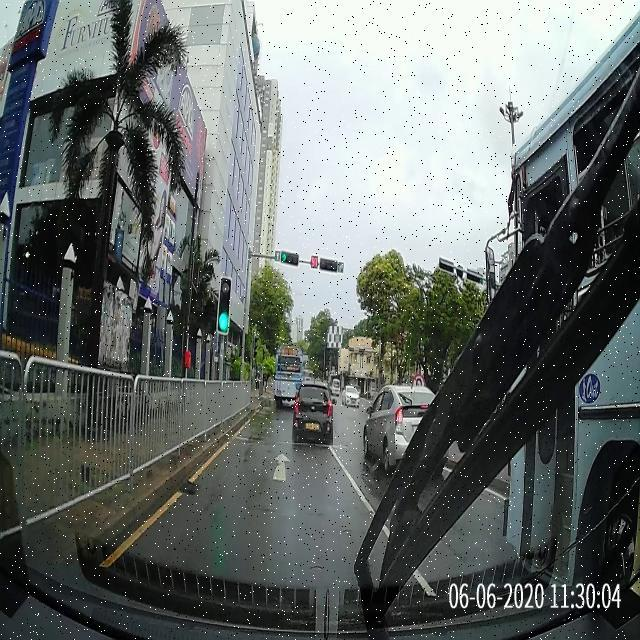forward: (202, 444, 365, 498)
